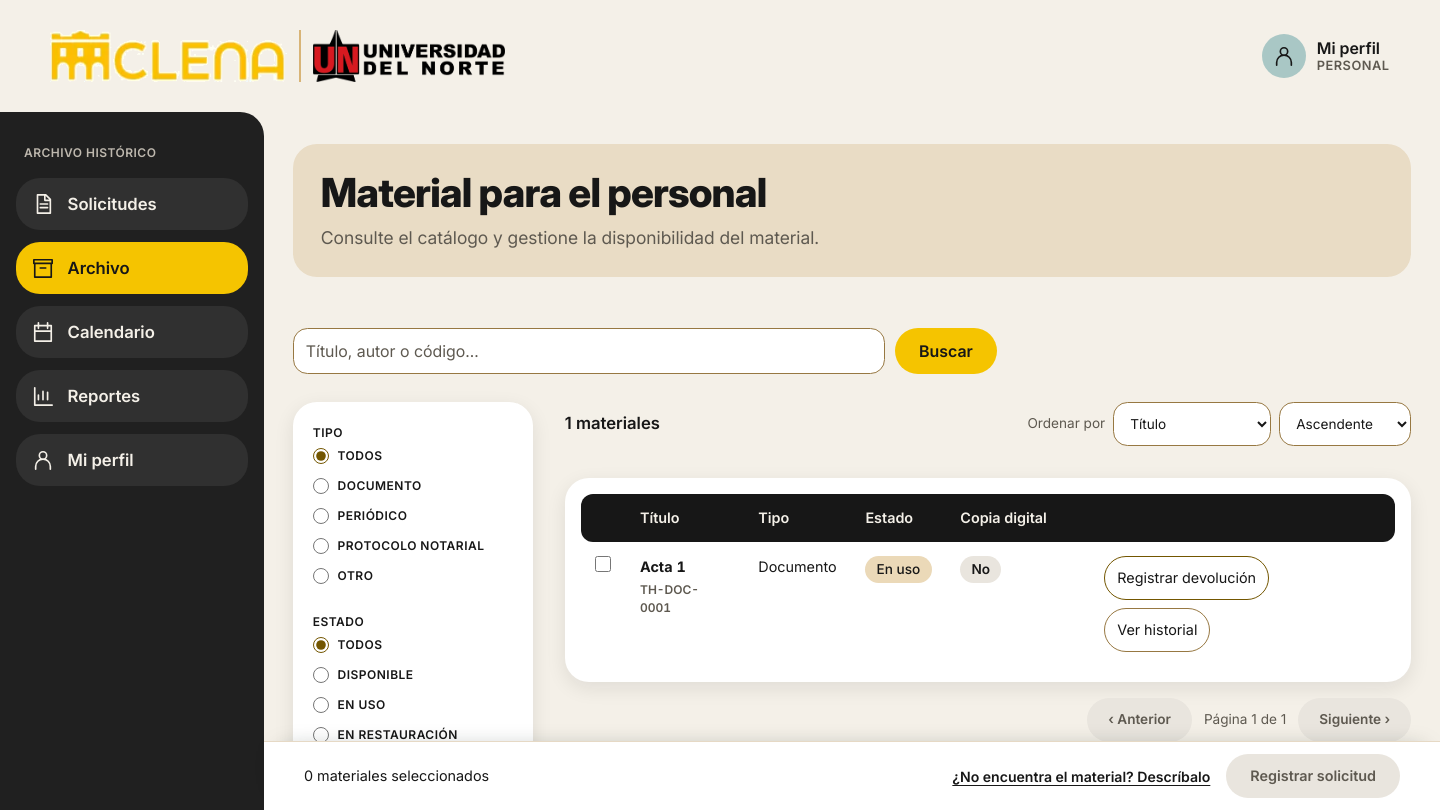
Test: StaffMaterialsPage › shows Registrar devolución instead of Cambiar estado for EN_USO materials and records return (HU-72)
Expected: the text "Acta 1" is shown, [640,558,686,575]
Click the button with aria-label "registrar devolución de acta 1" at (1187, 578), box [1104,556,1269,600]
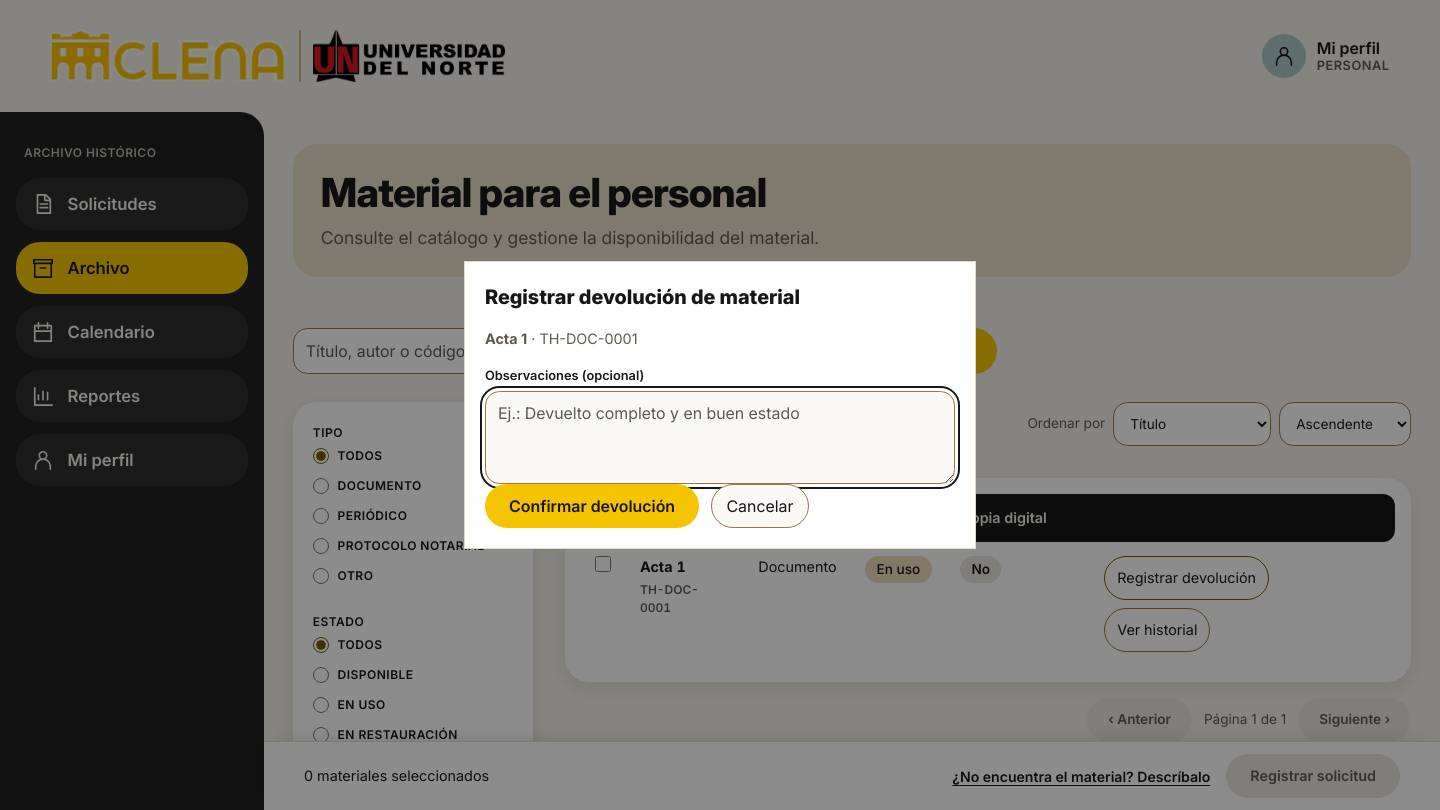
Type "Devuelto completo" into the text box labelled "Observaciones (opcional)" at (720, 437), box [485,391,955,484]
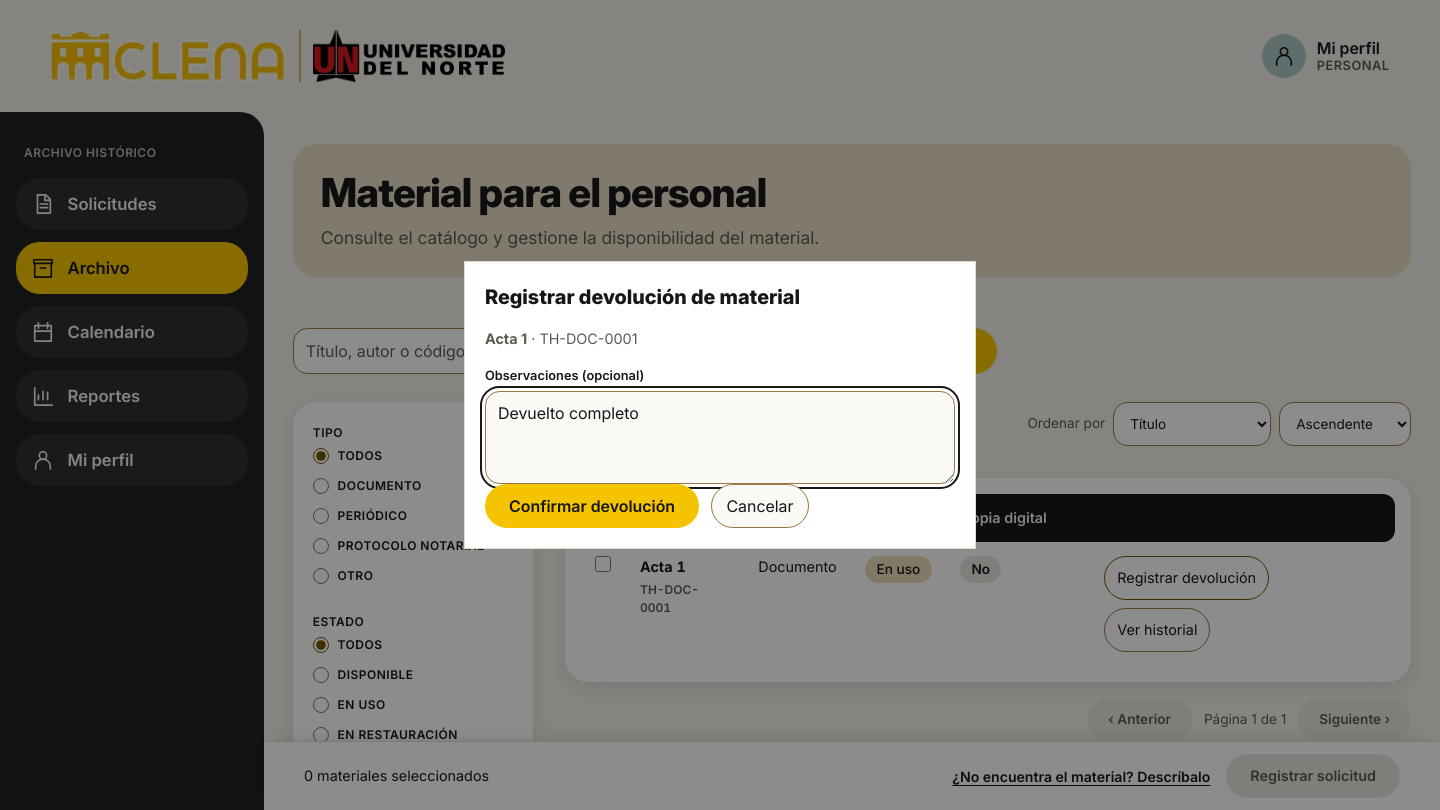
Click the button "Confirmar devolución" at (592, 506), box [485,484,699,528]
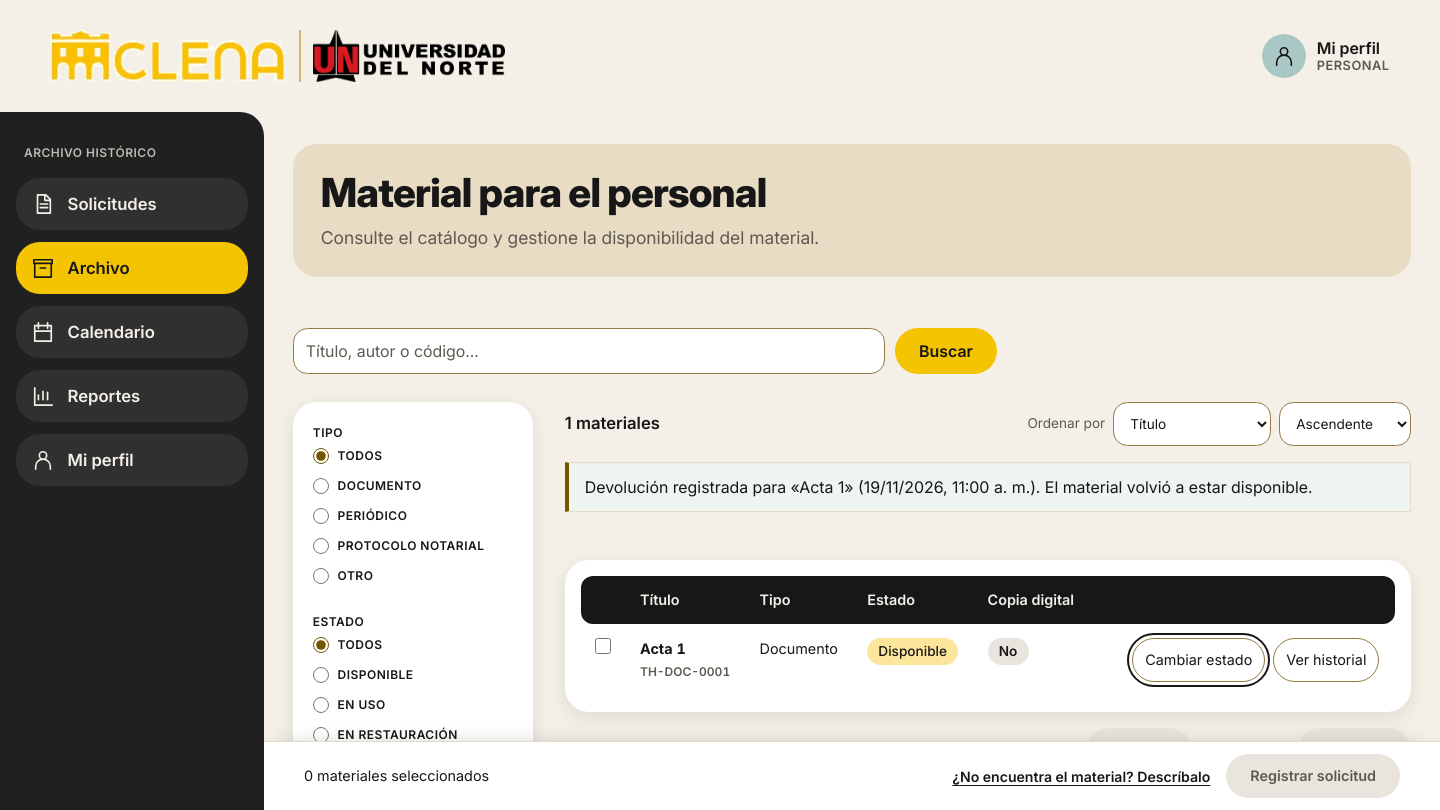
Now the message shows "Devolución registrada para «Acta 1»", box [585,476,1313,496]
Now the text "Disponible" is shown, box [867,638,958,665]
